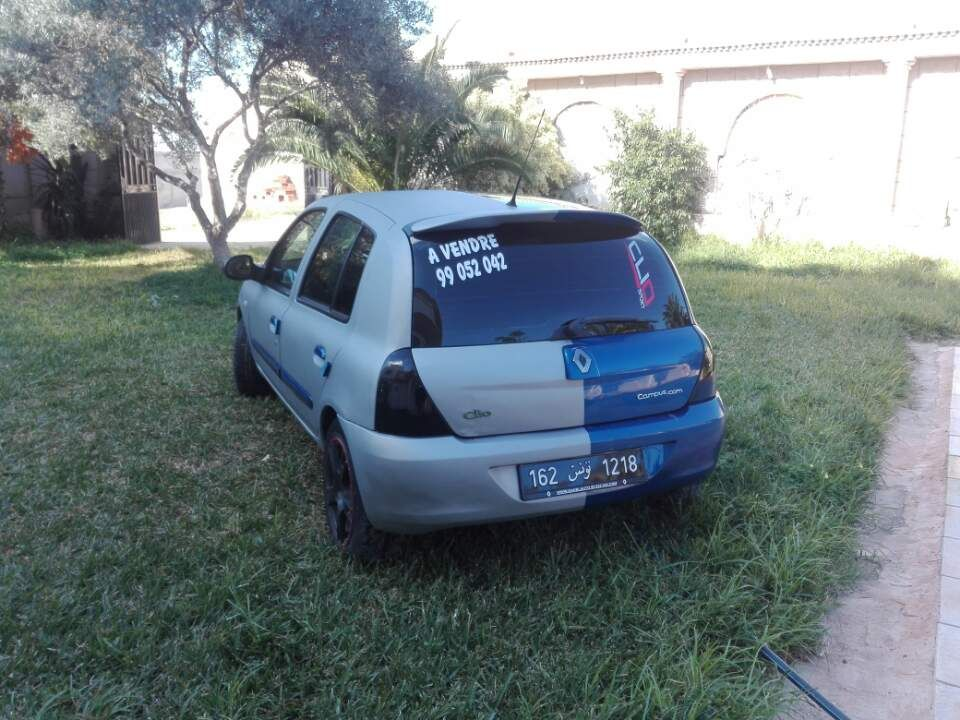LP: (516, 447, 646, 500)
